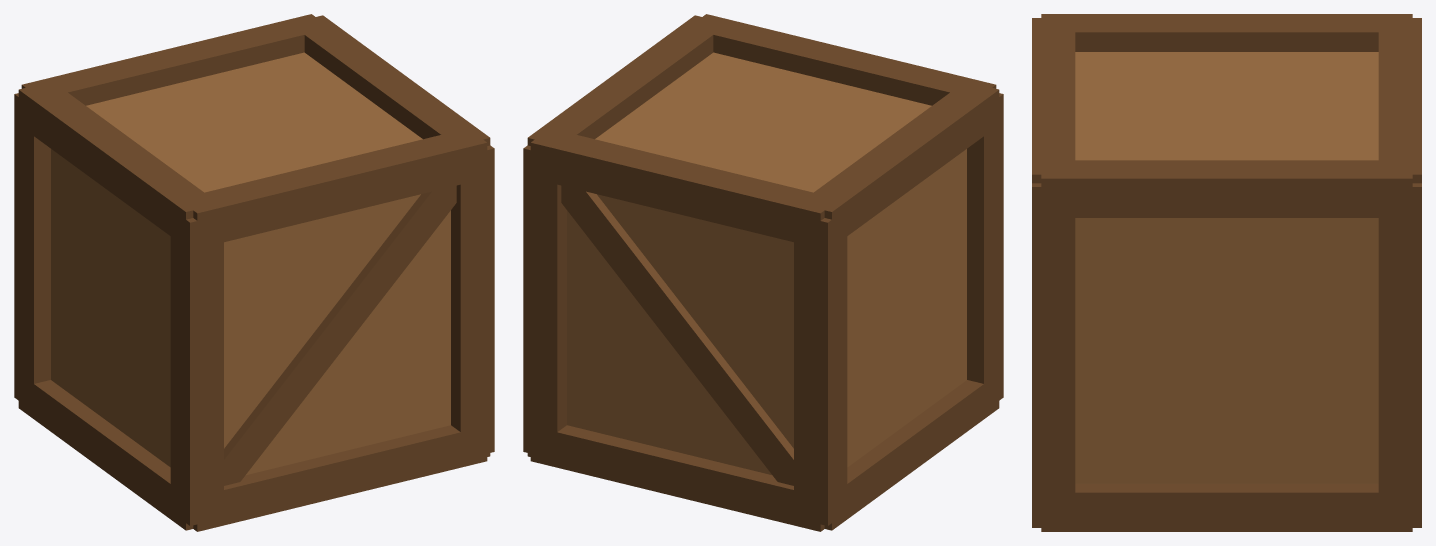
The model's file is prop_crate.glb.
The picture shows the model from 3 angles, left to right: view 1: azimuth 30°, elevation 25°; view 2: azimuth 150°, elevation 25°; view 3: azimuth 270°, elevation 25°; orthographic projection. The views are drawn at different scales.
Visible parts, largest first — view 1: prop_crate; view 2: prop_crate; view 3: prop_crate.
Part boxes in pixels (x1=…): prop_crate: x1=14, y1=14, x2=494, y2=531; prop_crate: x1=523, y1=14, x2=1003, y2=531; prop_crate: x1=1032, y1=14, x2=1421, y2=531.
Bounding box in the file's own units: 0.63 × 0.63 × 0.63.
1 material, 1 textured.
